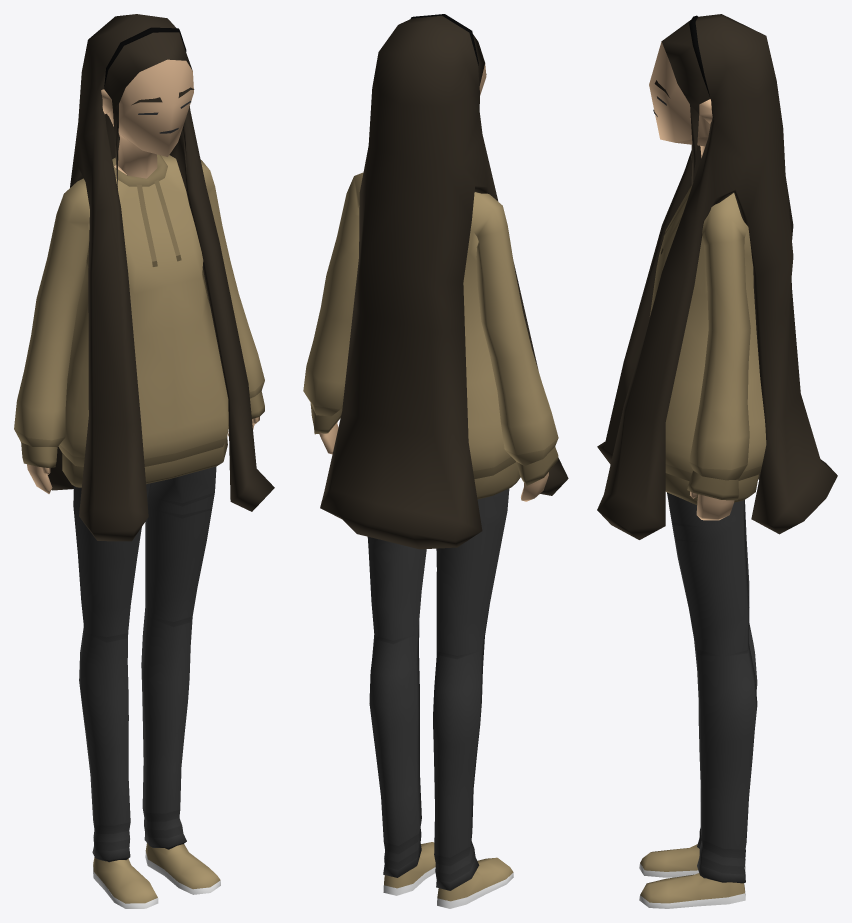
Rendered from 1longhair.glb.
3 renders of one model, left to right at view 1: azimuth 30°, elevation 25°; view 2: azimuth 150°, elevation 25°; view 3: azimuth 270°, elevation 25°, orthographic.
Visible parts, largest first — view 1: Body.002_6, Headband.002_7; view 2: Headband.002_7, Body.002_6; view 3: Body.002_6, Headband.002_7.
Part boxes in pixels (<box>): Body.002_6: <box>14,59,264,908</box>; Headband.002_7: <box>48,14,274,541</box>; Headband.002_7: <box>320,14,568,549</box>; Body.002_6: <box>303,63,558,908</box>; Body.002_6: <box>639,41,766,908</box>; Headband.002_7: <box>597,14,837,539</box>.
Bounding box in the file's own units: 0.5044 × 1.74 × 0.4389.
